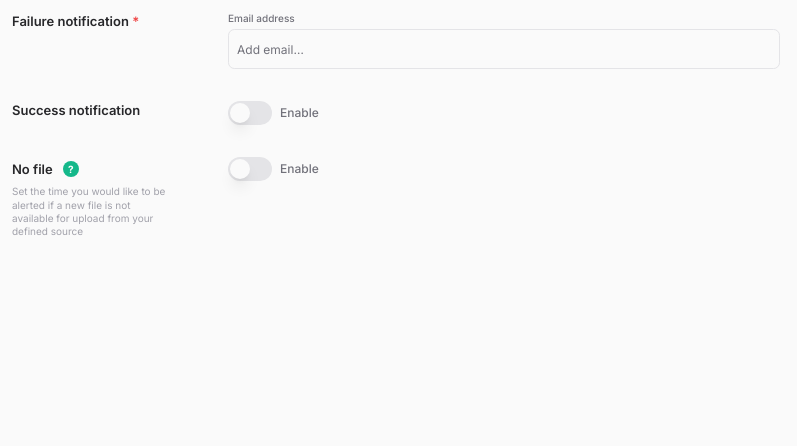
Test: NotificationsStep — No File frequency-specific content › defaults to Hourly frequency when No File is enabled
Step 1. Click the switch named "Enable" in the row of "No file" → (250, 169), box [228,157,272,181]
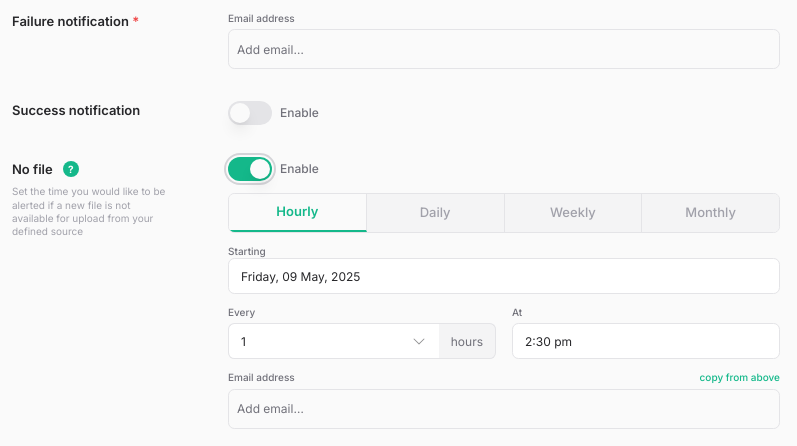
Now the field named "Starting date" is shown, box [228,258,780,294]
Now the dropdown named "Every interval" is shown, box [228,324,439,360]
Now the field named "At time" is shown, box [512,324,780,360]
